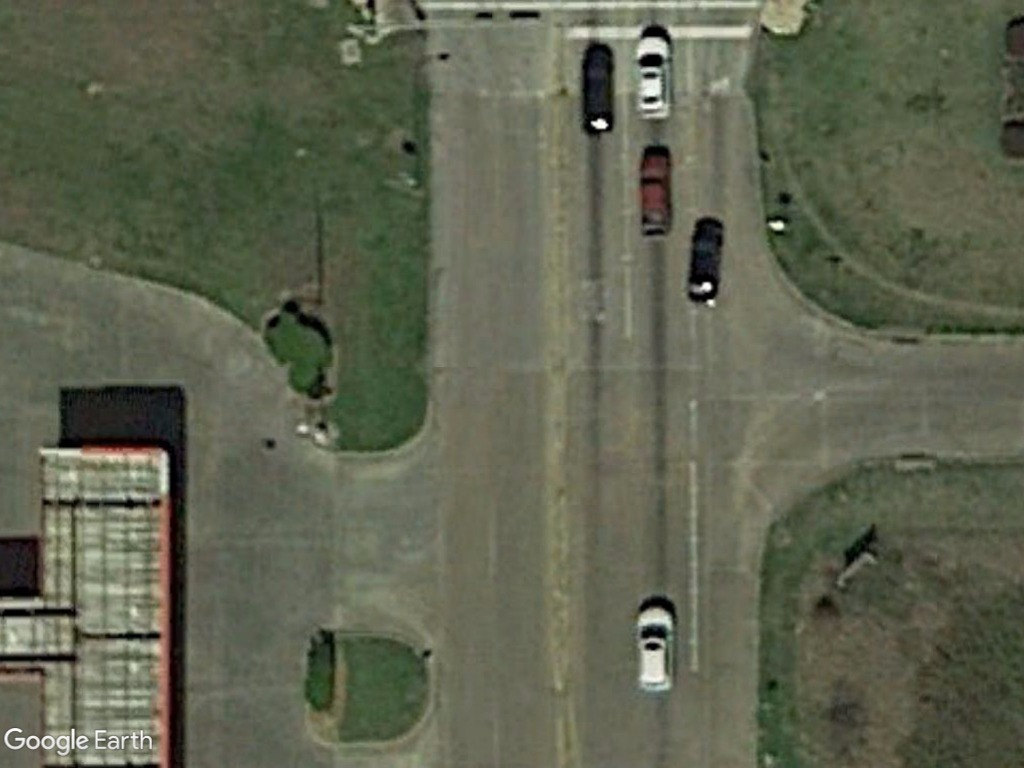car: (628, 27, 676, 129), (635, 601, 680, 697)
other: (633, 143, 679, 245)
